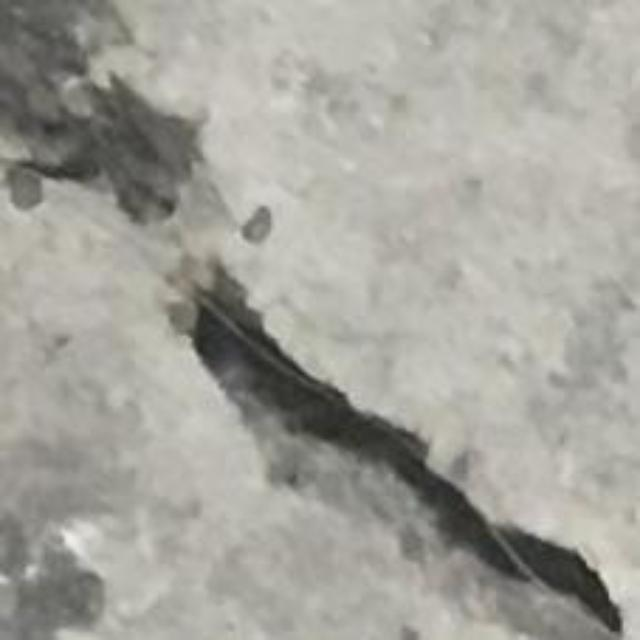crack: (167, 249, 623, 639)
